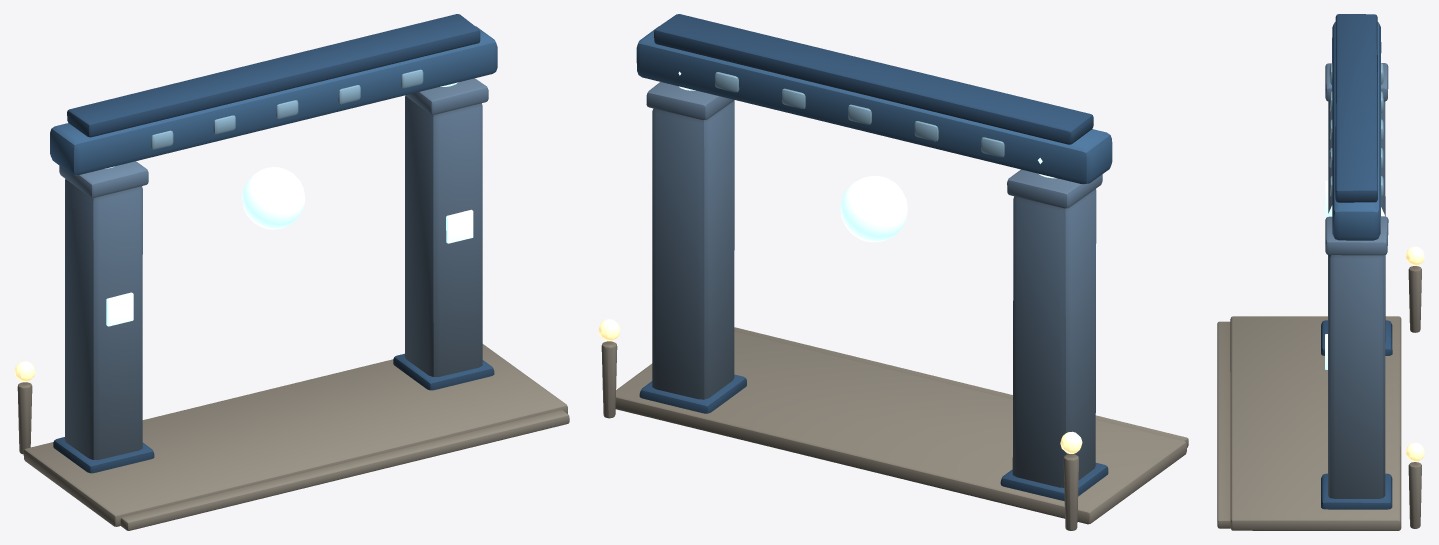
The picture shows the model from 3 angles, left to right: view 1: azimuth 30°, elevation 25°; view 2: azimuth 150°, elevation 25°; view 3: azimuth 270°, elevation 25°; orthographic projection. The views are drawn at different scales.
Parts seen in each view (by area): view 1: gate_7becbac8; view 2: gate_7becbac8; view 3: gate_7becbac8.
Part boxes in pixels (x1=…): gate_7becbac8: x1=14, y1=14, x2=569, y2=530; gate_7becbac8: x1=598, y1=14, x2=1188, y2=530; gate_7becbac8: x1=1217, y1=14, x2=1424, y2=530.
Size of the model in its own units: 5.96 by 4.45 by 2.54.
